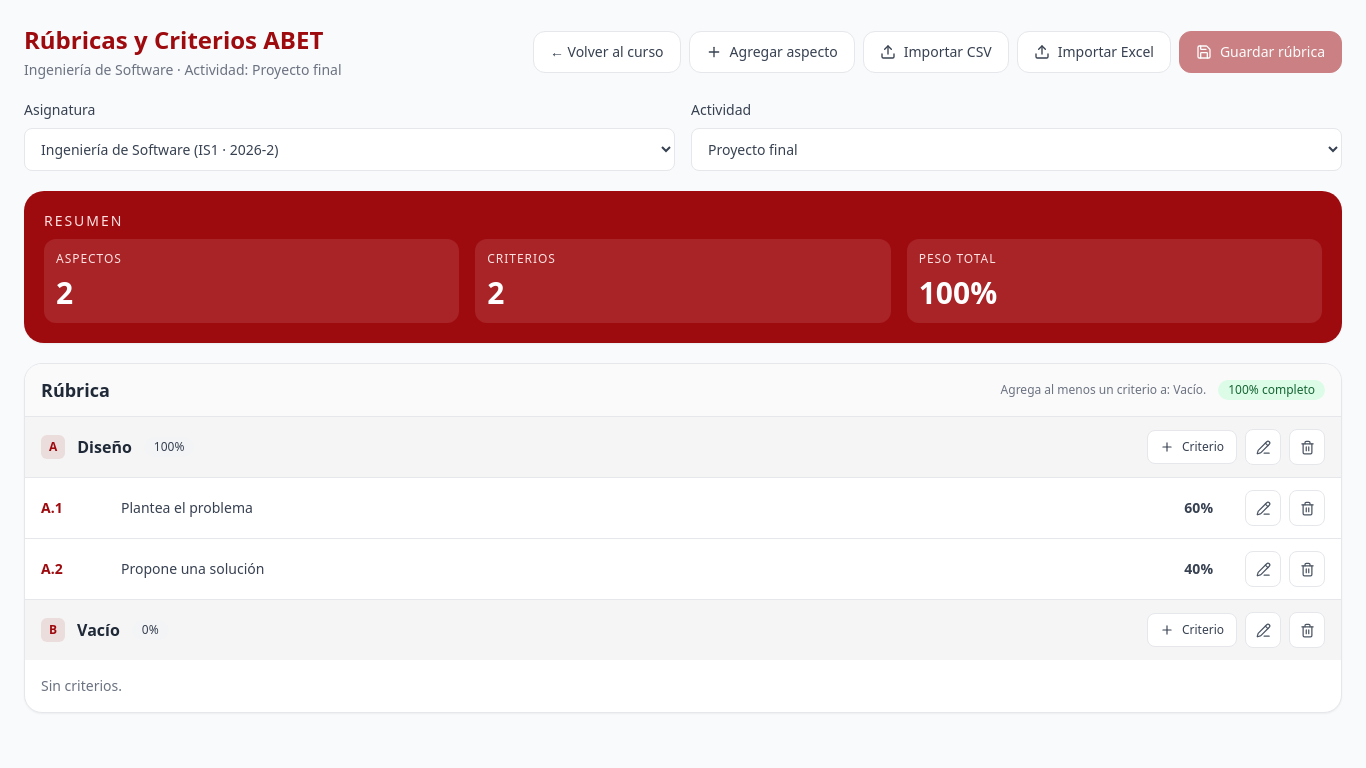
Scenario: RubricaPage — eliminar aspecto › un aspecto con criterios se confirma en el modal: Cancelar lo conserva y Eliminar lo quita del borrador
Click the button named "Eliminar Diseño": point(1307, 447) x1=1289 y1=429 x2=1325 y2=465
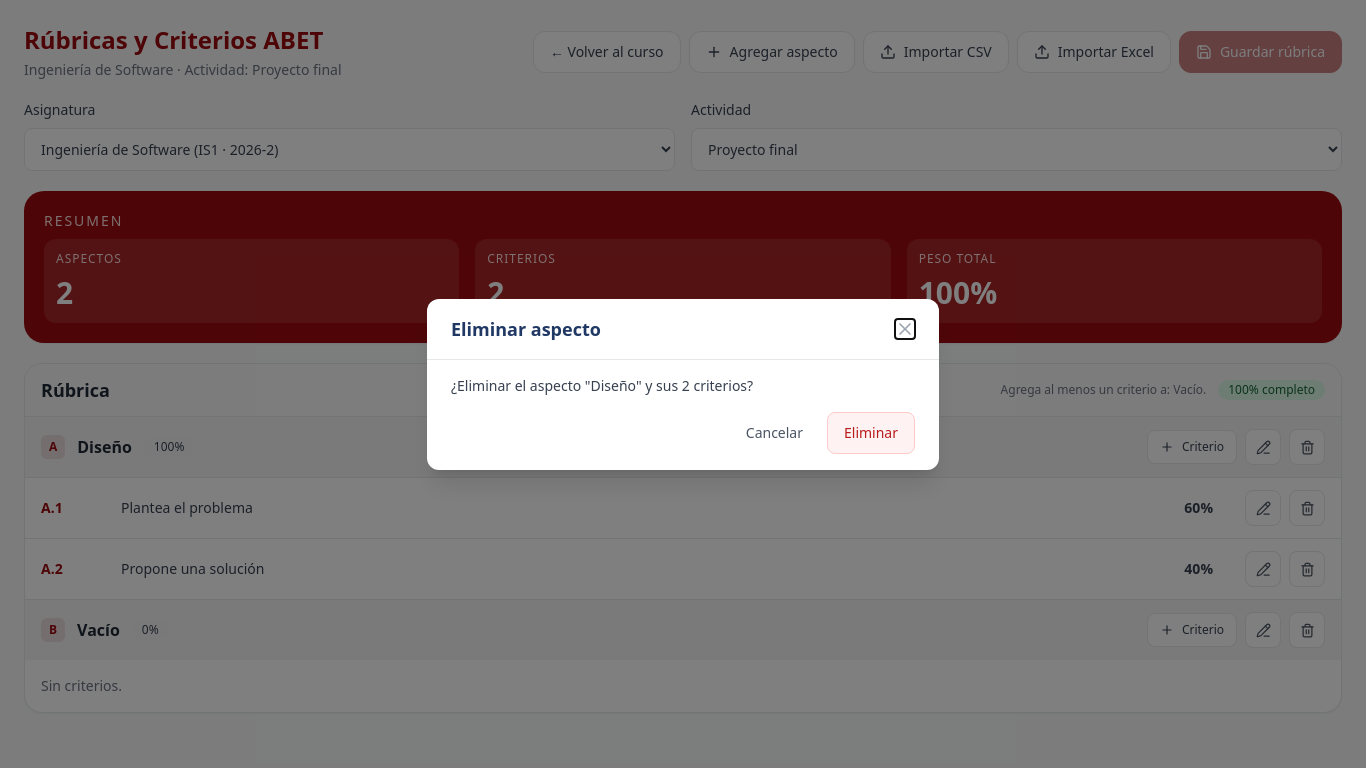
Result: the dialog "Eliminar aspecto" is shown at x1=427 y1=298 x2=939 y2=470
Result: the text "¿Eliminar el aspecto \"Diseño\" y sus 2 criterios?" is shown at x1=451 y1=376 x2=753 y2=394
// Cancelar cierra el modal sin tocar el borrador
Click the button "Cancelar": point(774, 432) x1=730 y1=412 x2=819 y2=454
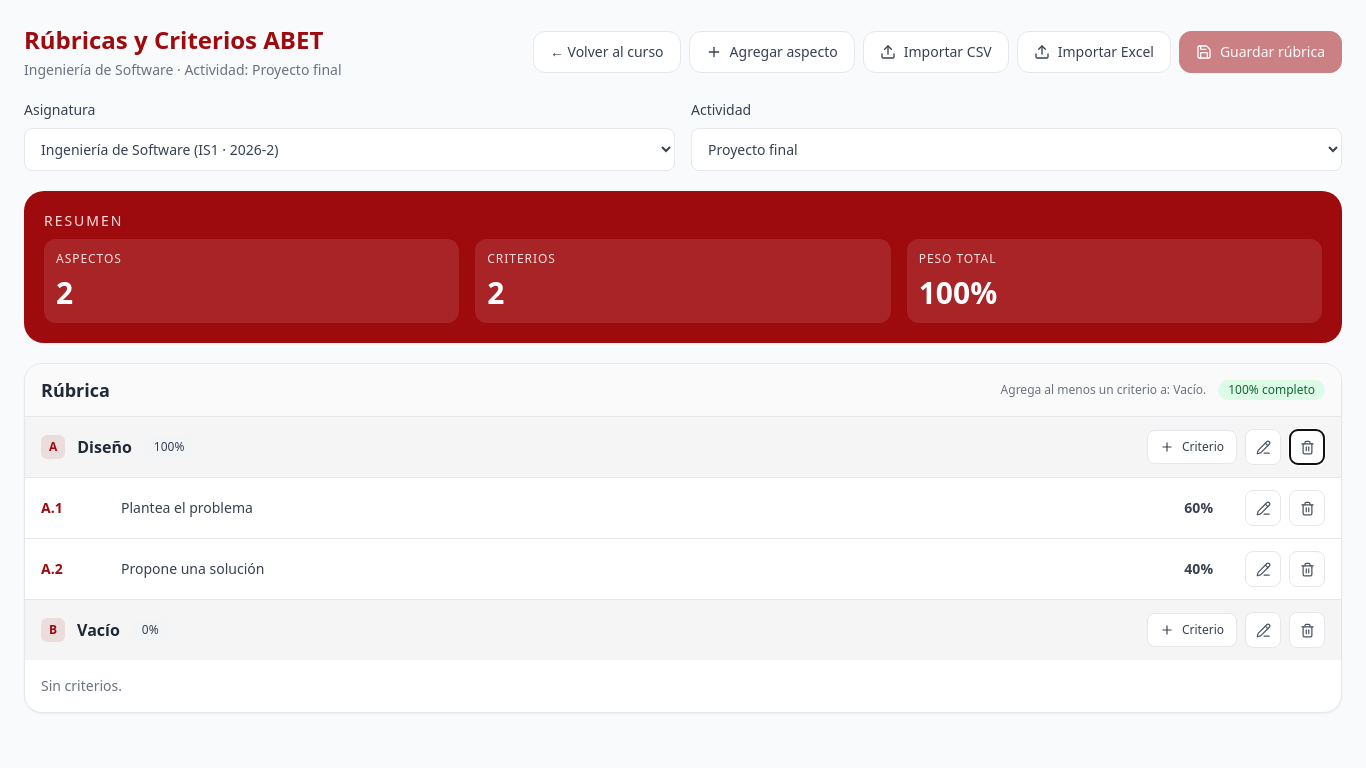
Result: the dialog is gone
// Confirmar lo quita del borrador
Click the button named "Eliminar Diseño": point(1307, 447) x1=1289 y1=429 x2=1325 y2=465
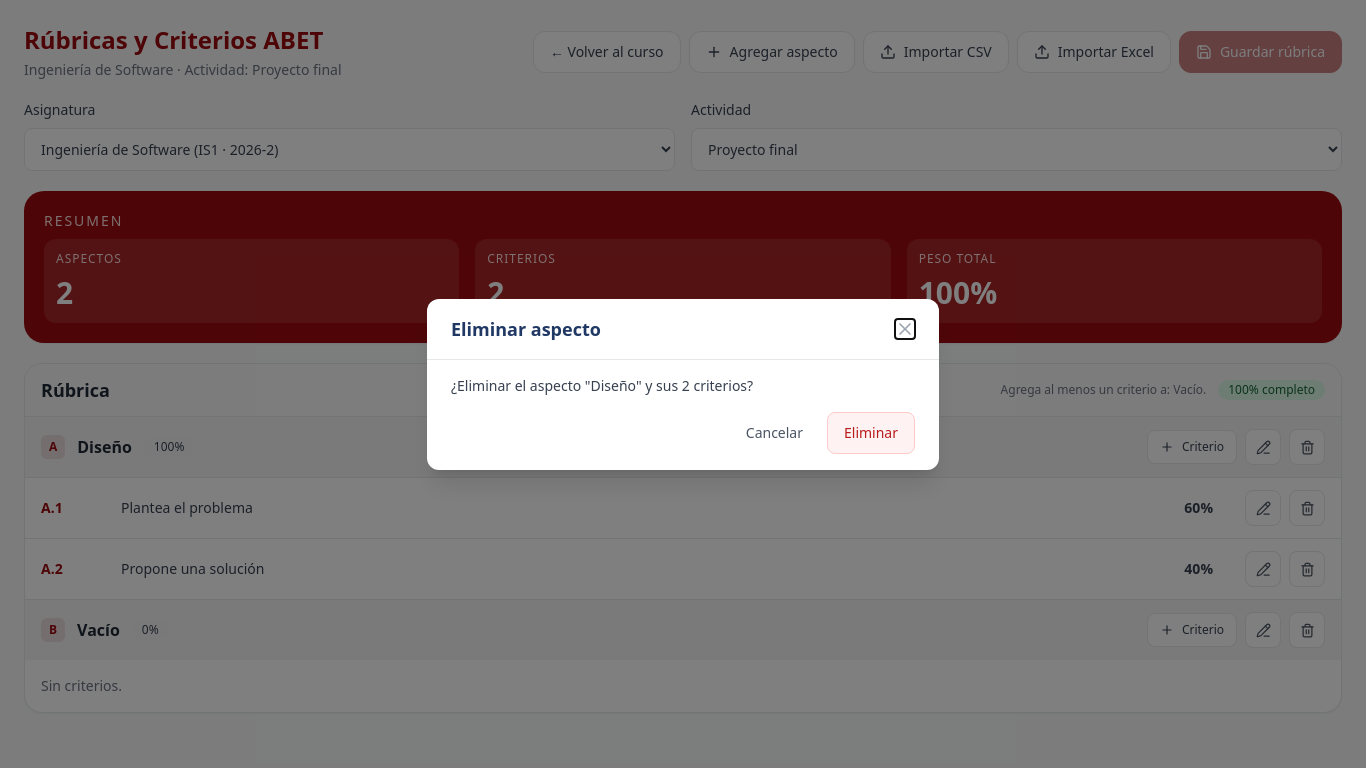
Click the button "Eliminar": point(871, 432) x1=827 y1=412 x2=915 y2=454
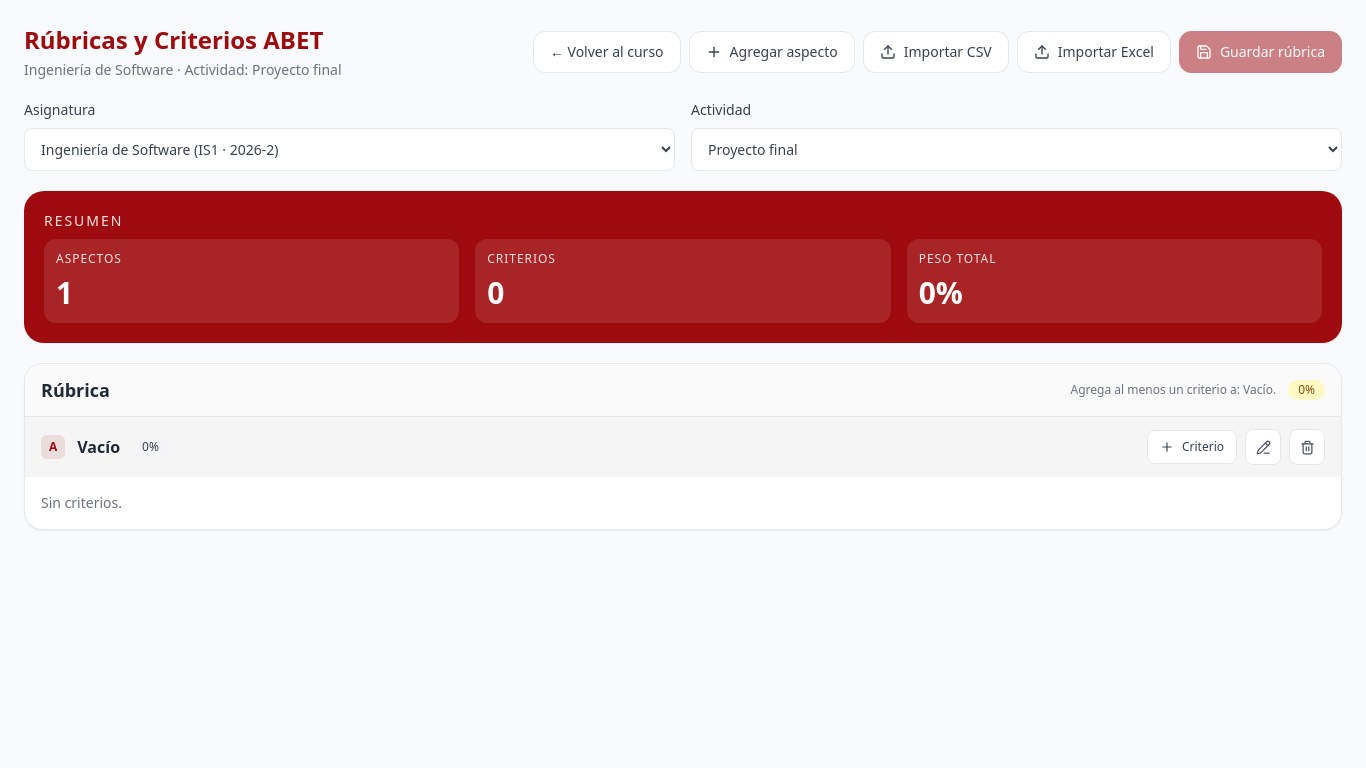
Expected: the button named "Eliminar Vacío" is shown, x1=1289 y1=429 x2=1325 y2=465
Result: the dialog is gone
